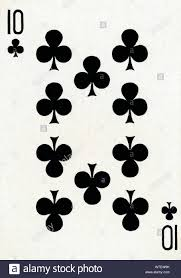ten of clubs: (2, 1, 180, 259)
